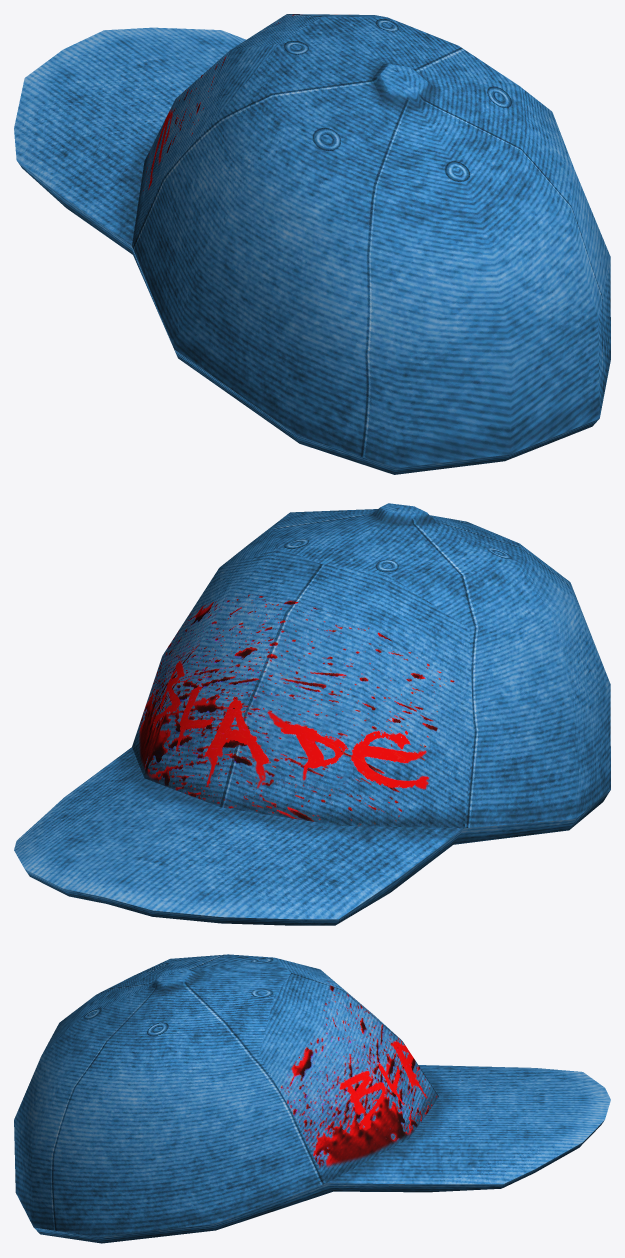
Rendered from cap_blade.glb.
3 views of the same model, one above another, from view 1: azimuth 30°, elevation 25°; view 2: azimuth 150°, elevation 25°; view 3: azimuth 270°, elevation 25° (orthographic). The views are drawn at different scales.
Visible parts, largest first — view 1: cosmetic_cap blade; view 2: cosmetic_cap blade; view 3: cosmetic_cap blade.
Boxes of the visible parts, x1=… form: cosmetic_cap blade: x1=14, y1=14, x2=610, y2=474; cosmetic_cap blade: x1=14, y1=503, x2=610, y2=925; cosmetic_cap blade: x1=14, y1=954, x2=610, y2=1243.
Bounding box in the file's own units: 0.4916 × 0.366 × 0.8643.
Materials: 1 (1 with a texture image).
